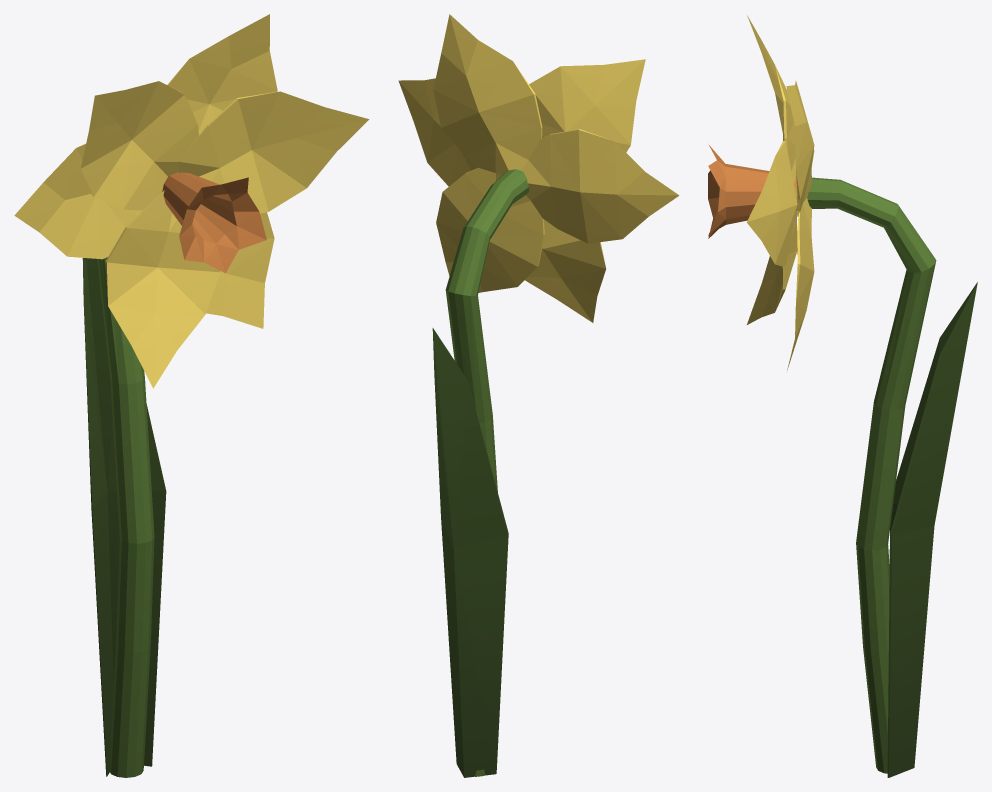
File: Env_Daffodil_High_Detail_01.obj
3 renders of one model, left to right at view 1: azimuth 30°, elevation 25°; view 2: azimuth 150°, elevation 25°; view 3: azimuth 270°, elevation 25°, orthographic. The views are drawn at different scales.
Visible parts, largest first — view 1: Env_Daffodil_High_Detail_01; view 2: Env_Daffodil_High_Detail_01; view 3: Env_Daffodil_High_Detail_01.
Part boxes in pixels (x1=…): Env_Daffodil_High_Detail_01: x1=14, y1=14, x2=369, y2=777; Env_Daffodil_High_Detail_01: x1=398, y1=14, x2=679, y2=777; Env_Daffodil_High_Detail_01: x1=708, y1=15, x2=977, y2=777.
Size of the model in its own units: 0.2021 by 0.4496 by 0.1527.
Materials: 1 (1 with a texture image).
